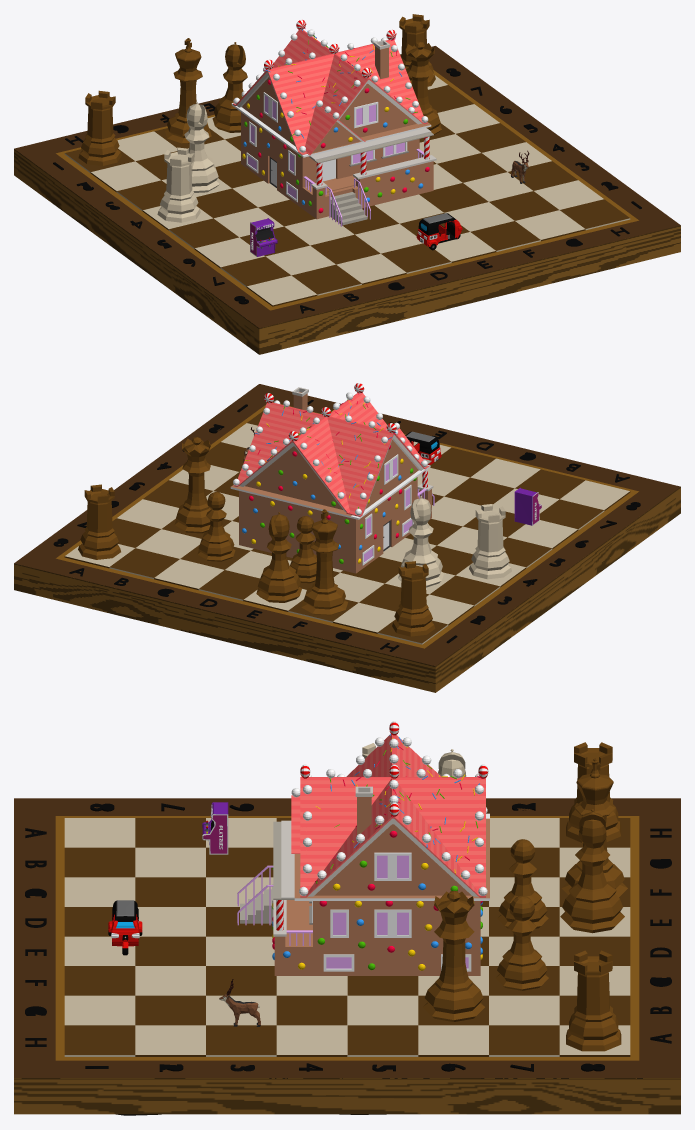
3 views of the same model, one above another, from view 1: azimuth 30°, elevation 25°; view 2: azimuth 150°, elevation 25°; view 3: azimuth 270°, elevation 25° (orthographic). The views are drawn at different scales.
Visible parts, largest first — view 1: Cube.002, Cube.1203, VEHICLES_TUC_TUC, OBJRANDOM_ARCADE; view 2: Cube.002, Cube.1203, OBJRANDOM_ARCADE, VEHICLES_TUC_TUC; view 3: Cube.002, Cube.1203, VEHICLES_TUC_TUC, OBJRANDOM_ARCADE, ANIMAL_VENADO.
Part boxes in pixels (x1=…): Cube.002: x1=14, y1=14, x2=680, y2=354; Cube.1203: x1=231, y1=19, x2=436, y2=226; VEHICLES_TUC_TUC: x1=416, y1=213, x2=462, y2=250; OBJRANDOM_ARCADE: x1=250, y1=218, x2=277, y2=256; Cube.002: x1=14, y1=384, x2=680, y2=692; Cube.1203: x1=230, y1=383, x2=434, y2=573; OBJRANDOM_ARCADE: x1=514, y1=487, x2=541, y2=525; VEHICLES_TUC_TUC: x1=405, y1=431, x2=441, y2=465; Cube.002: x1=14, y1=742, x2=680, y2=1114; Cube.1203: x1=237, y1=721, x2=489, y2=975; VEHICLES_TUC_TUC: x1=108, y1=900, x2=142, y2=955; OBJRANDOM_ARCADE: x1=202, y1=802, x2=228, y2=854; ANIMAL_VENADO: x1=219, y1=979, x2=260, y2=1026.
Size of the model in its own units: 3981 by 1459 by 4012.
49 materials, 3 textured.
